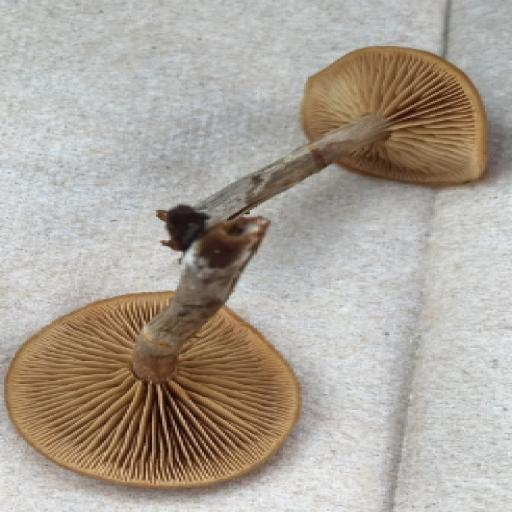mushroom: (138, 36, 500, 254), (4, 254, 328, 496)
